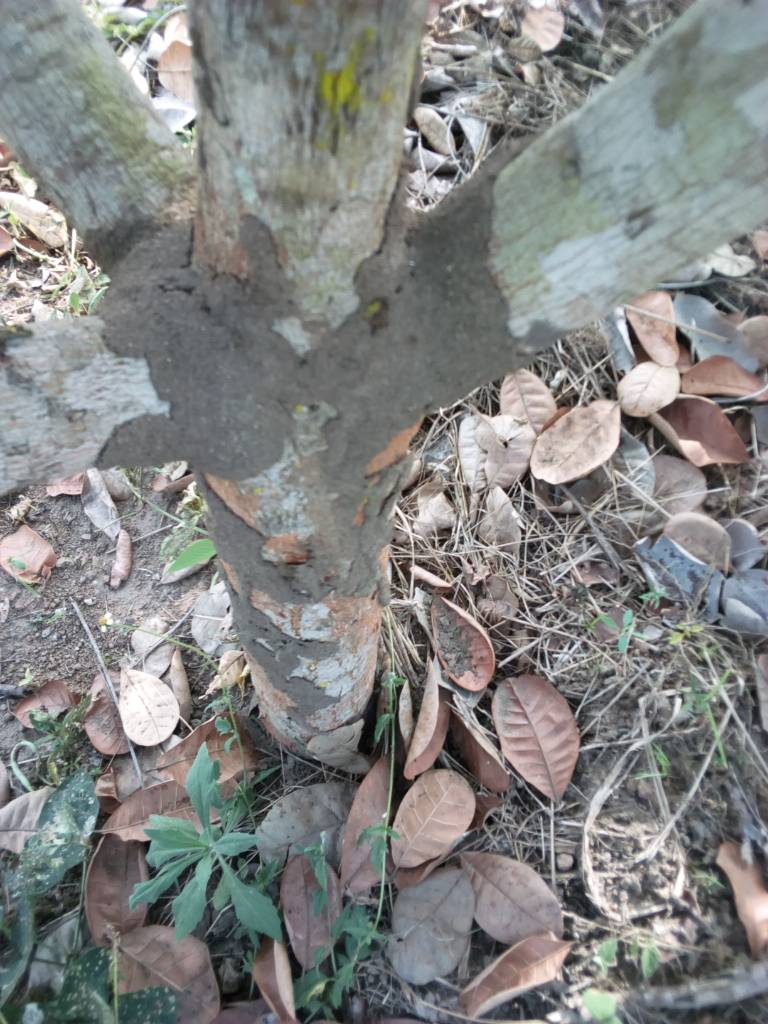Termites: (315, 216, 521, 500), (110, 239, 297, 478), (207, 508, 380, 727)
